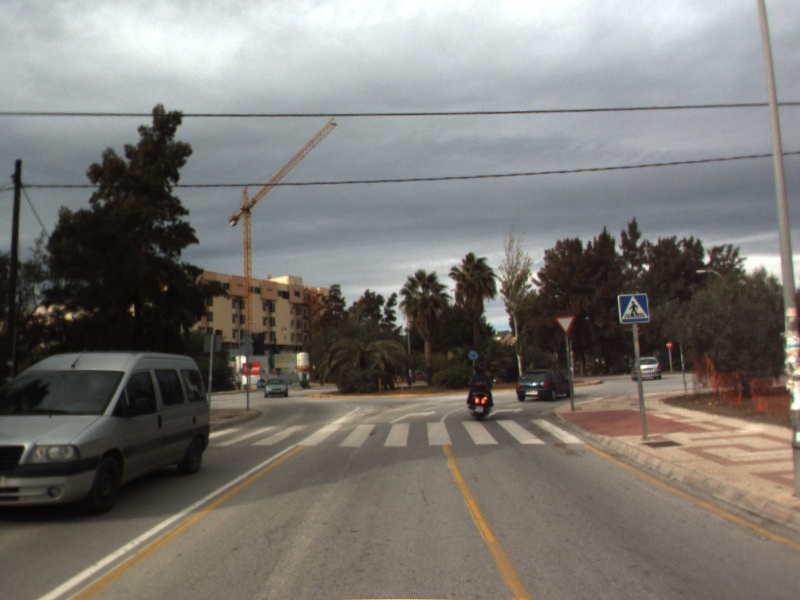RIGHT: (388, 408, 438, 425), (484, 405, 526, 420)
